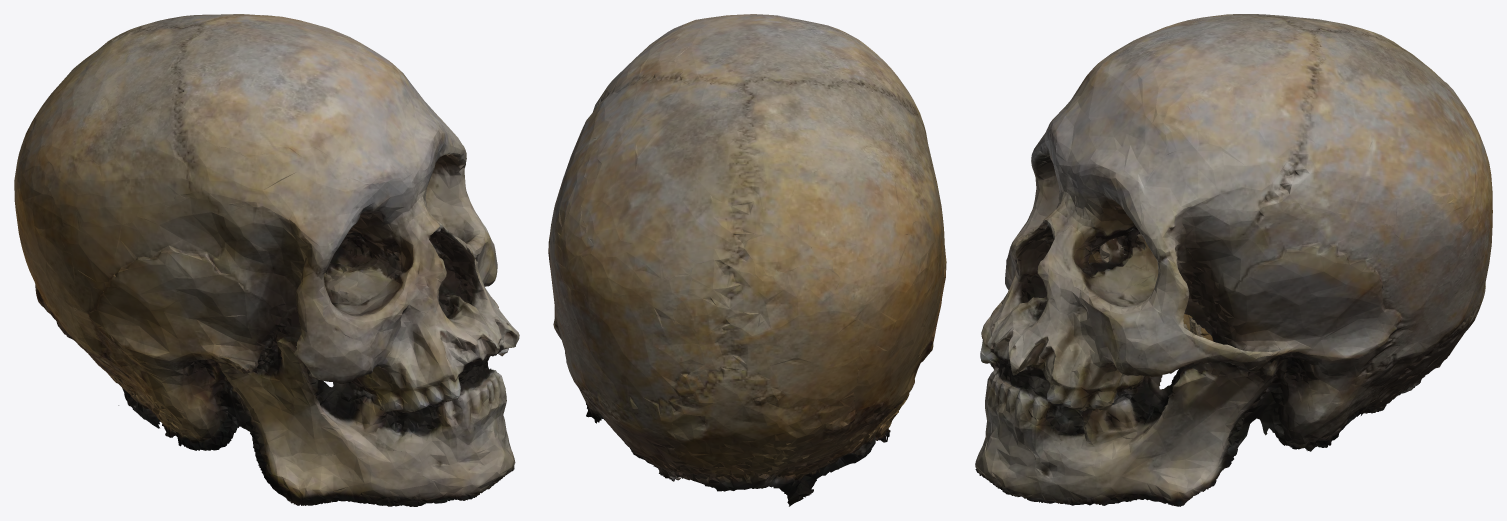
The model's file is human-skull.glb.
3 renders of one model, left to right at view 1: azimuth 30°, elevation 25°; view 2: azimuth 150°, elevation 25°; view 3: azimuth 270°, elevation 25°, orthographic. The views are drawn at different scales.
Visible parts, largest first — view 1: Object_3; view 2: Object_3; view 3: Object_3.
Boxes of the visible parts, bbox=[...] form: Object_3: bbox=[14, 14, 519, 506]; Object_3: bbox=[548, 14, 946, 506]; Object_3: bbox=[975, 14, 1492, 506].
Size of the model in its own units: 1.58 by 1.57 by 1.85.
1 material, 1 textured.
